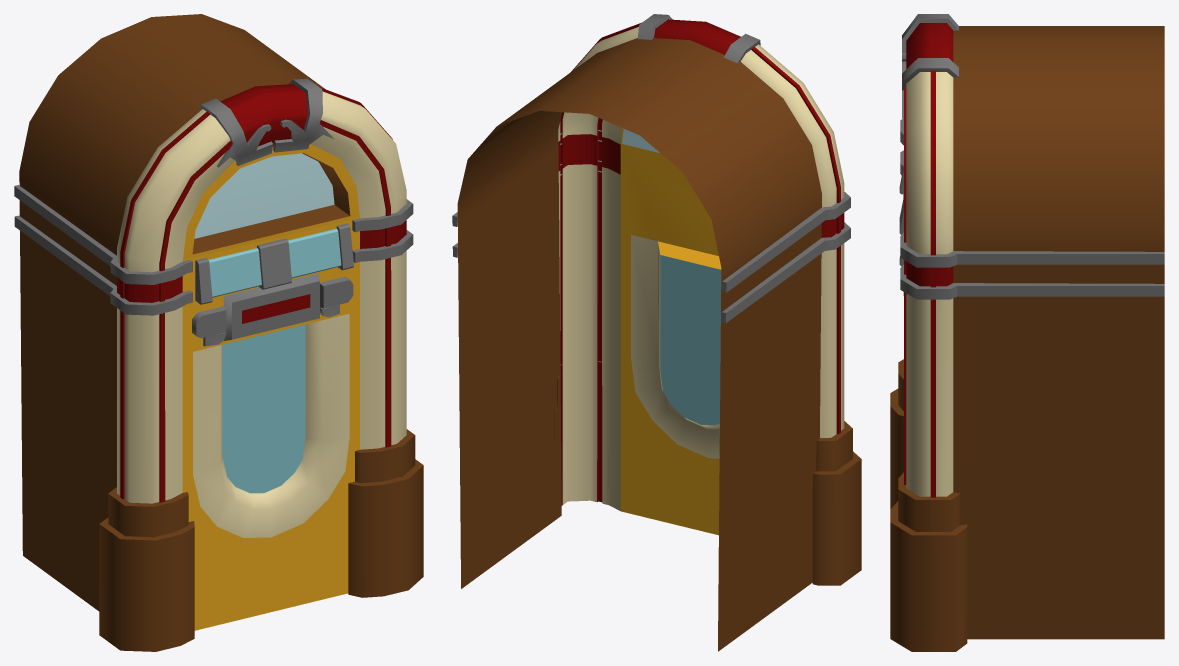
File: Jukebox.fbx
The picture shows the model from 3 angles, left to right: view 1: azimuth 30°, elevation 25°; view 2: azimuth 150°, elevation 25°; view 3: azimuth 270°, elevation 25°; orthographic projection. The views are drawn at different scales.
Parts seen in each view (by area): view 1: Jukebox; view 2: Jukebox; view 3: Jukebox.
Part boxes in pixels (x1,y1,x2,y2): Jukebox: (14, 14, 423, 651); Jukebox: (452, 14, 861, 651); Jukebox: (890, 14, 1164, 651).
Size of the model in its own units: 0.5337 by 0.8675 by 0.3989.
Materials: 1 (1 with a texture image).
